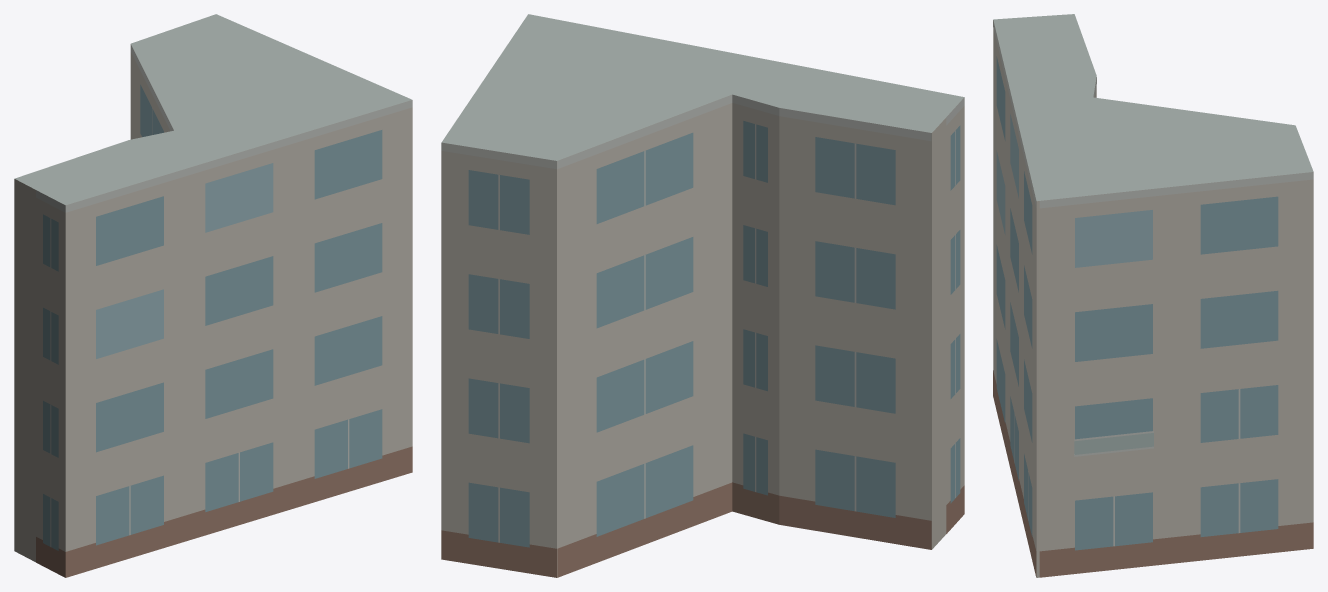
Rendered from survey-upis-32511994.glb.
The picture shows the model from 3 angles, left to right: view 1: azimuth 30°, elevation 25°; view 2: azimuth 150°, elevation 25°; view 3: azimuth 270°, elevation 25°; orthographic projection. The views are drawn at different scales.
Visible parts, largest first — view 1: survey-upis-32511994.tmp; view 2: survey-upis-32511994.tmp; view 3: survey-upis-32511994.tmp.
Boxes of the visible parts, bbox=[...] form: survey-upis-32511994.tmp: bbox=[14, 14, 412, 577]; survey-upis-32511994.tmp: bbox=[441, 14, 964, 577]; survey-upis-32511994.tmp: bbox=[993, 14, 1313, 577].
Bounding box in the file's own units: 13 × 12.2 × 9.42.
